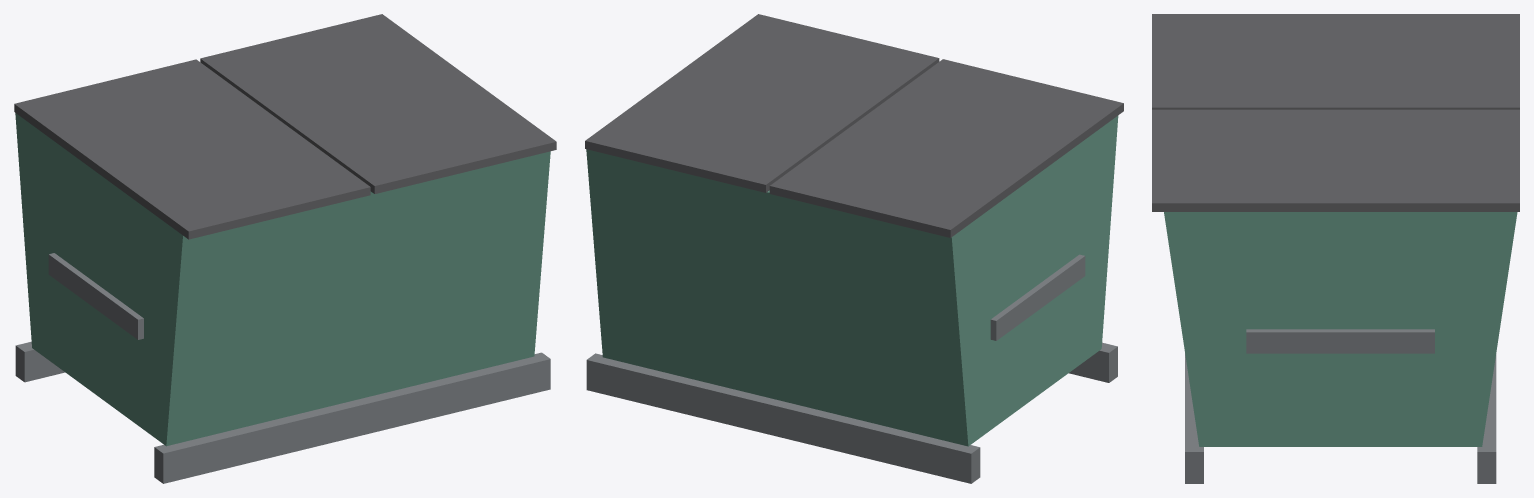
Rendered from dumpster.glb.
3 renders of one model, left to right at view 1: azimuth 30°, elevation 25°; view 2: azimuth 150°, elevation 25°; view 3: azimuth 270°, elevation 25°, orthographic. The views are drawn at different scales.
Parts seen in each view (by area): view 1: dumpster_dumpster, dumpster_dark, dumpster_steel_d; view 2: dumpster_dumpster, dumpster_dark, dumpster_steel_d; view 3: dumpster_dark, dumpster_dumpster, dumpster_steel_d.
Part boxes in pixels (x1,y1,x2,y2): dumpster_dumpster: (15,113,550,446); dumpster_dark: (14,14,556,239); dumpster_steel_d: (15,253,550,483); dumpster_dumpster: (586,115,1118,446); dumpster_dark: (585,14,1123,237); dumpster_steel_d: (586,254,1117,483); dumpster_dark: (1152,14,1519,211); dumpster_dumpster: (1164,212,1517,446); dumpster_steel_d: (1185,329,1496,483).
Bounding box in the file's own units: 2 × 1.29 × 1.56.
